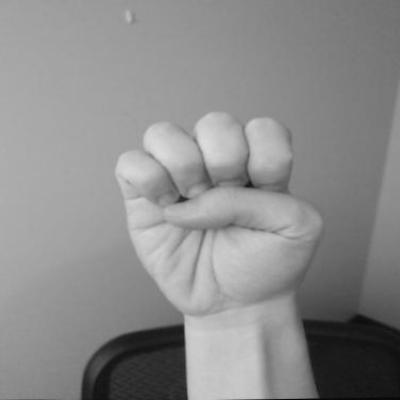hand: (102, 106, 331, 322)
